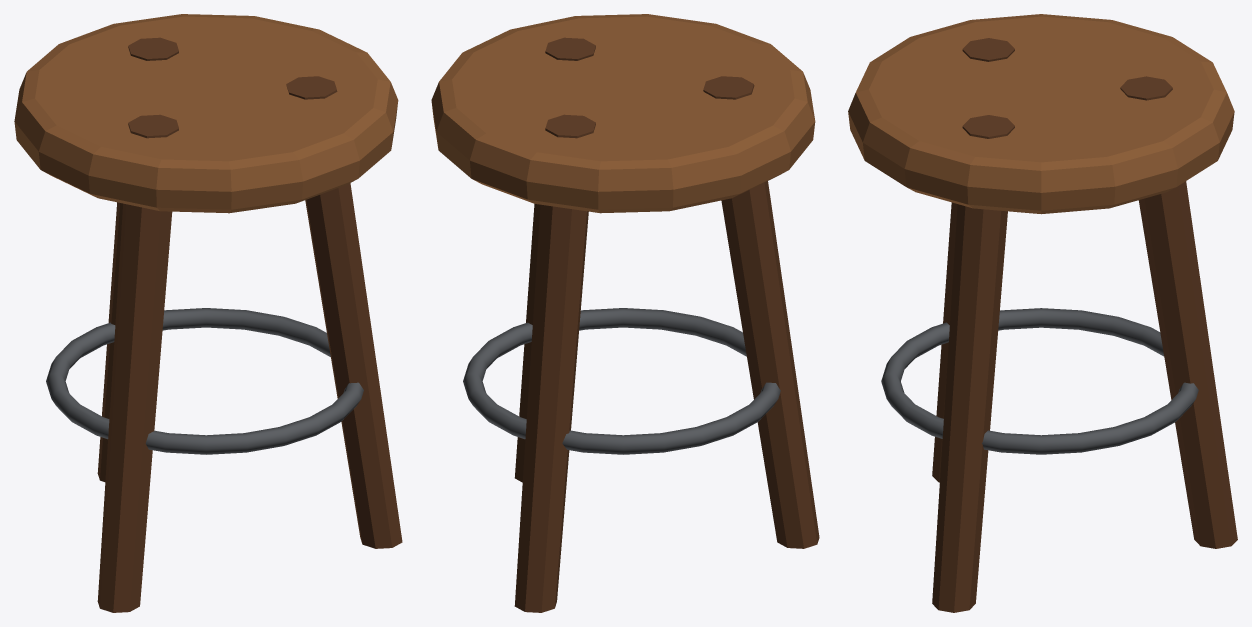
The model's file is wooden-stool_final.glb.
3 renders of one model, left to right at view 1: azimuth 30°, elevation 25°; view 2: azimuth 150°, elevation 25°; view 3: azimuth 270°, elevation 25°, orthographic.
Parts seen in each view (by area): view 1: SM_WoodenStool_Seat, SM_WoodenStool_Legs, SM_WoodenStool_Brace; view 2: SM_WoodenStool_Seat, SM_WoodenStool_Legs, SM_WoodenStool_Brace; view 3: SM_WoodenStool_Seat, SM_WoodenStool_Legs, SM_WoodenStool_Brace.
Boxes of the visible parts, x1=… form: SM_WoodenStool_Seat: x1=14, y1=14, x2=398, y2=213; SM_WoodenStool_Legs: x1=97, y1=37, x2=402, y2=612; SM_WoodenStool_Brace: x1=46, y1=308, x2=363, y2=454; SM_WoodenStool_Seat: x1=431, y1=14, x2=815, y2=213; SM_WoodenStool_Legs: x1=514, y1=37, x2=819, y2=612; SM_WoodenStool_Brace: x1=463, y1=308, x2=780, y2=454; SM_WoodenStool_Seat: x1=848, y1=14, x2=1234, y2=214; SM_WoodenStool_Legs: x1=932, y1=38, x2=1237, y2=612; SM_WoodenStool_Brace: x1=881, y1=308, x2=1198, y2=454.
Bounding box in the file's own units: 0.354 × 0.457 × 0.357.
